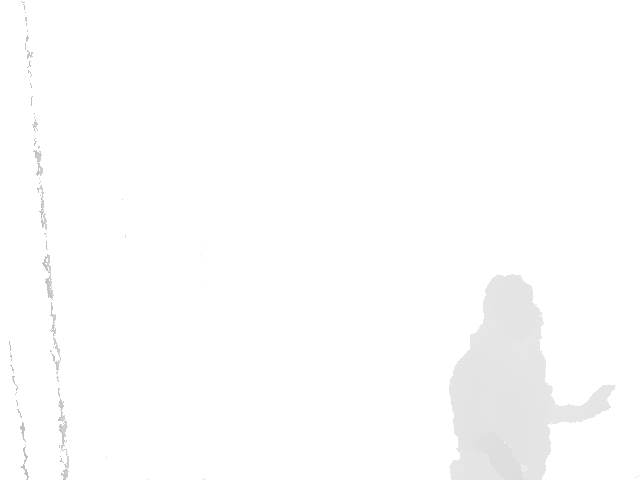head: (482, 275, 543, 350)
person: (449, 274, 616, 480)
